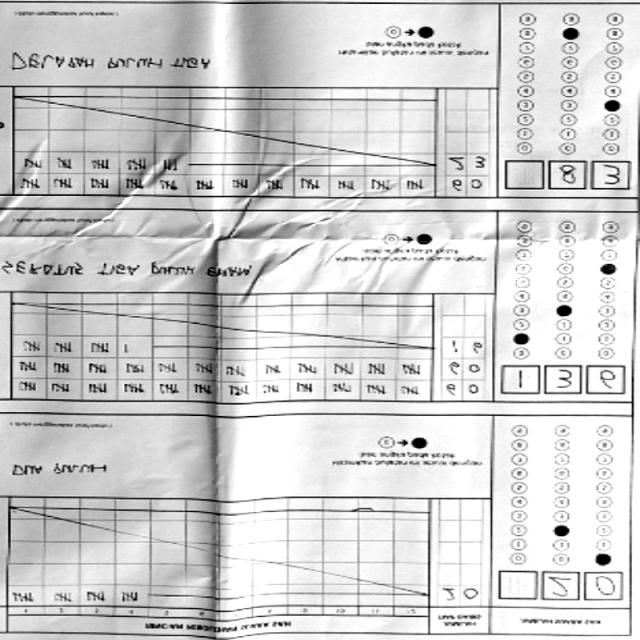Suara: (497, 158, 635, 198), (498, 362, 627, 402), (492, 572, 626, 606)
